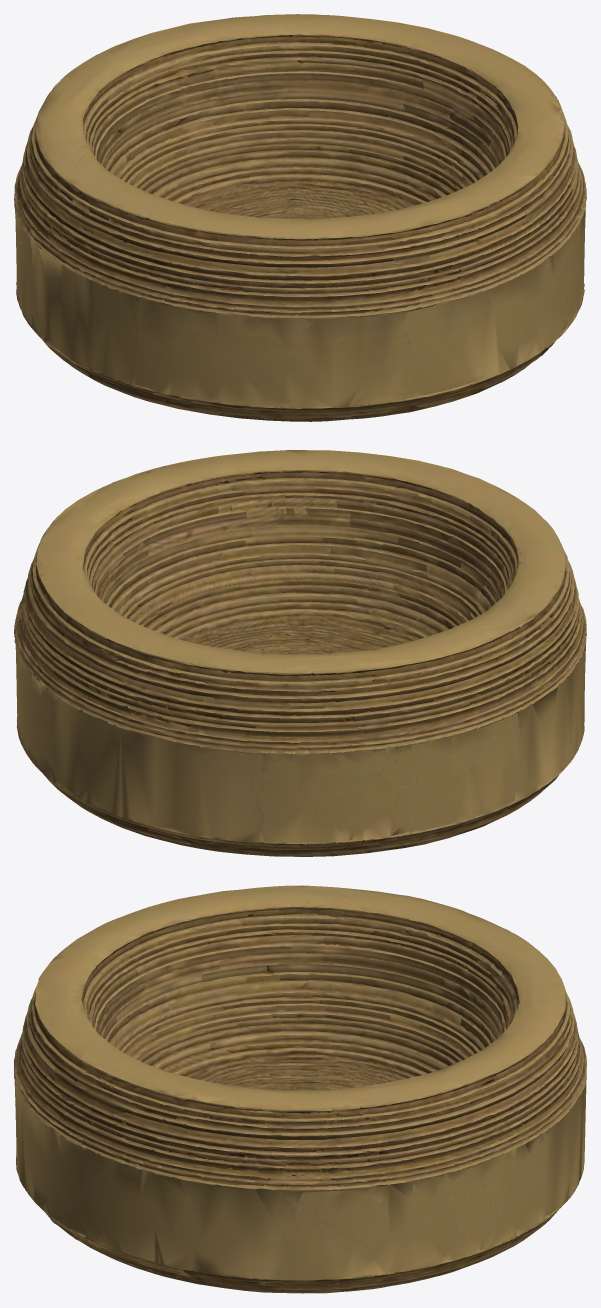
3 views of the same model, one above another, from view 1: azimuth 30°, elevation 25°; view 2: azimuth 150°, elevation 25°; view 3: azimuth 270°, elevation 25° (orthographic).
Visible parts, largest first — view 1: world; view 2: world; view 3: world.
Part boxes in pixels (x1,y1,x2,y2): world: (14,14,586,421); world: (14,450,586,856); world: (14,885,586,1293).
Bounding box in the file's own units: 1 × 0.3685 × 1.
1 material, 1 textured.
